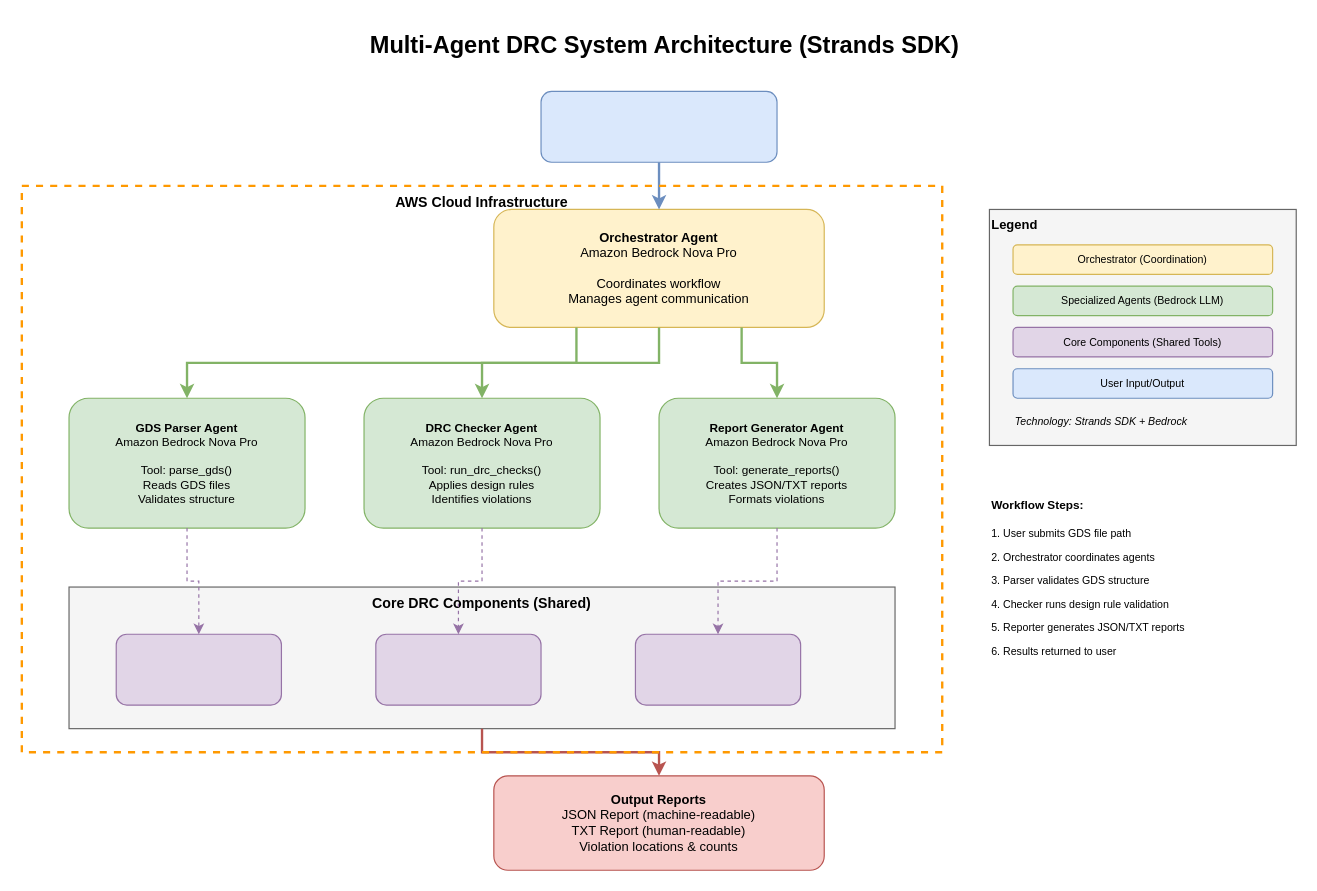
This 1317x891 diagram has some shape labels left out. The centre of each missing label's shape, as x and y in pixels:
"DRC Engine Rule Validation Violation Detection" belongs at [458,669].
"GDS Reader KLayout Parse layouts" belongs at [198,669].
"Report Formatter JSON/TXT Output Violation Formatting" belongs at [717,669].
"User Request (GDS File Path)" belongs at [658,126].
